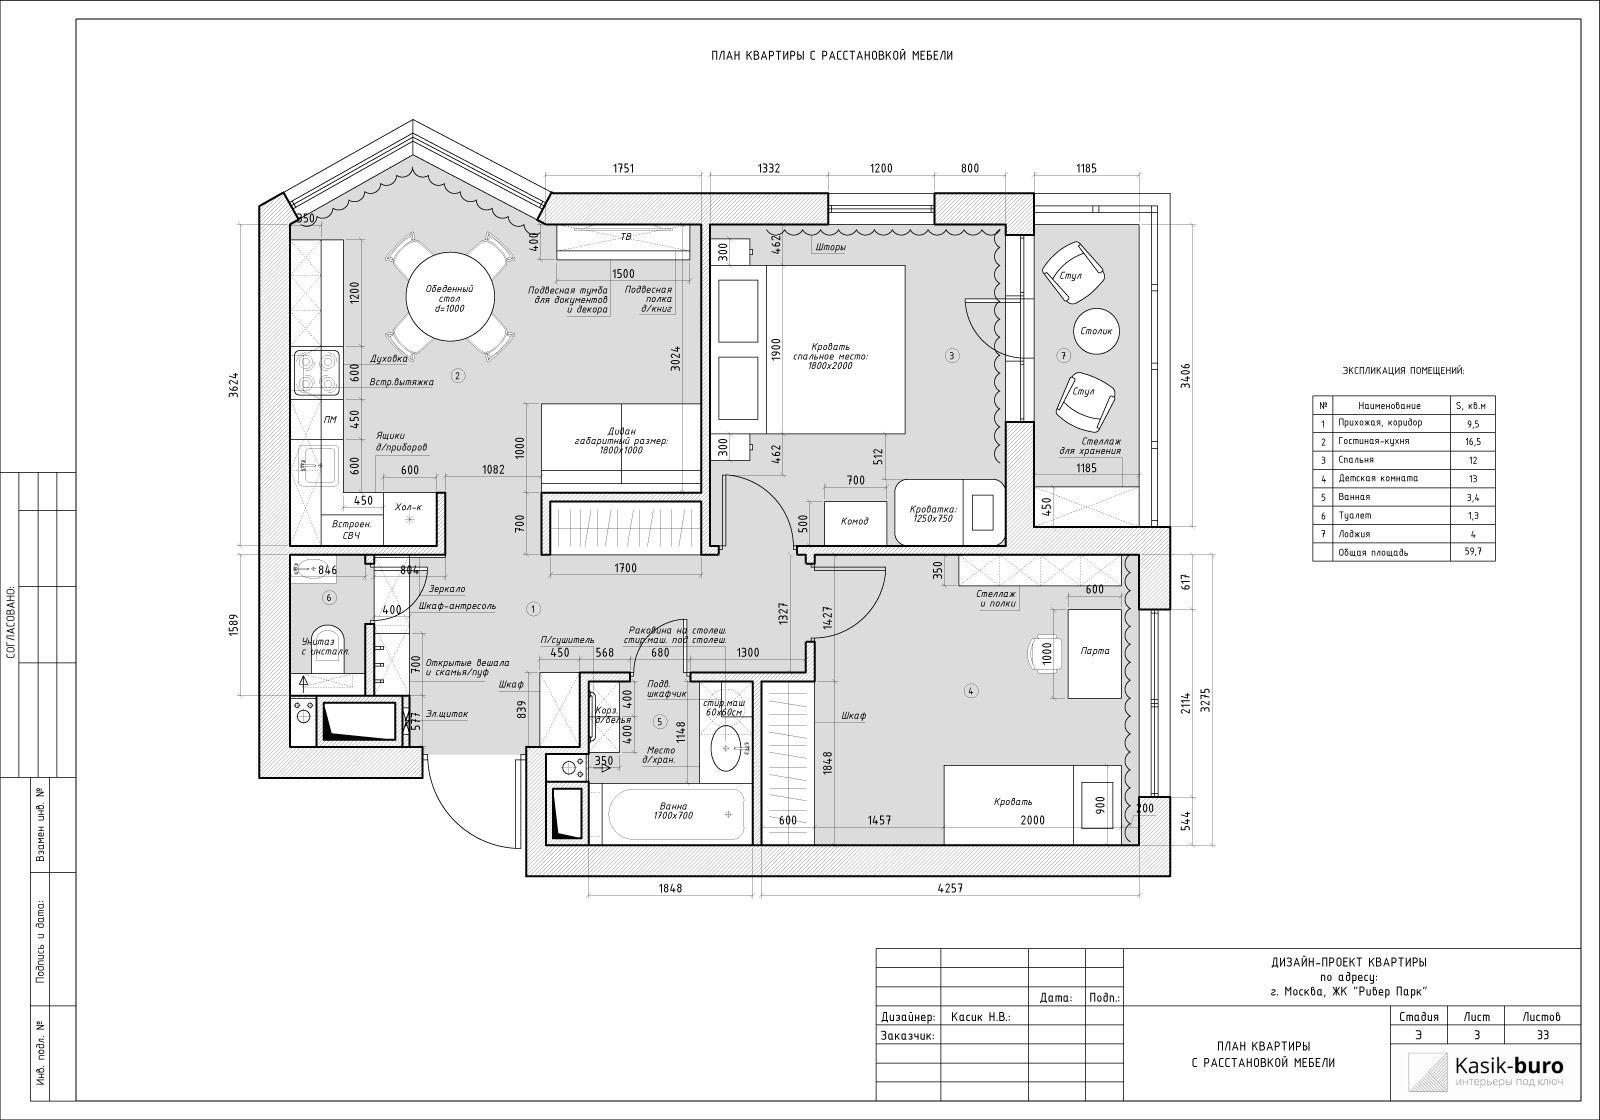balcony: (1034, 214, 1152, 527)
bathroom: (588, 682, 753, 846)
bedroom: (709, 224, 1005, 547)
children_room: (762, 554, 1138, 847)
hallway: (376, 493, 806, 748)
living_room: (289, 155, 701, 546)
toilet: (289, 555, 368, 696)
